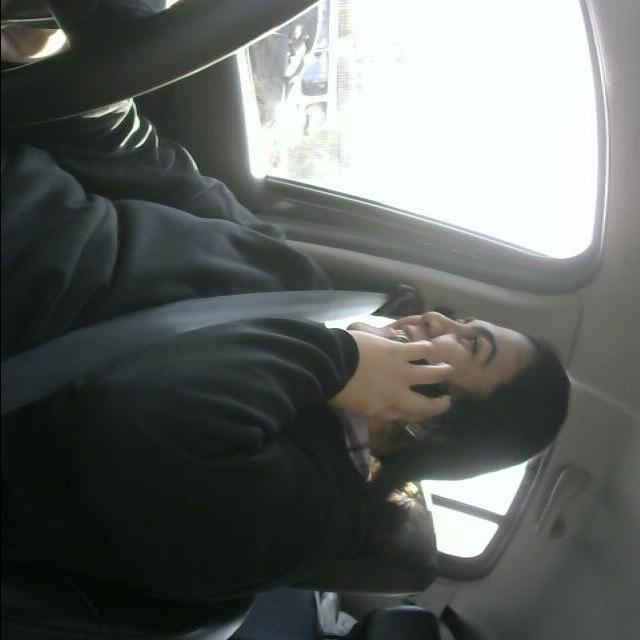mobile use: (337, 330, 473, 450)
